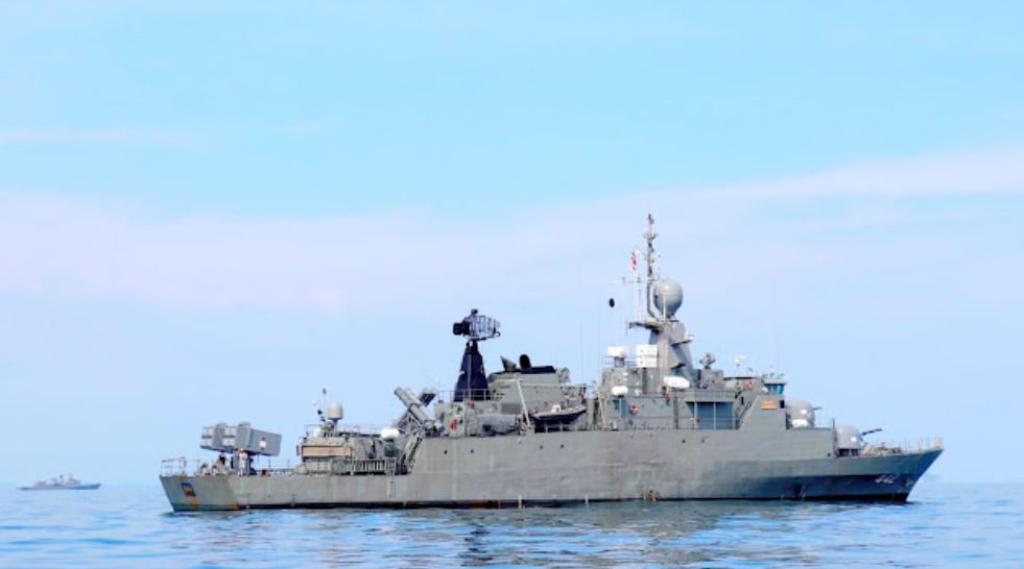Warship: (154, 251, 944, 513), (14, 470, 106, 494)
